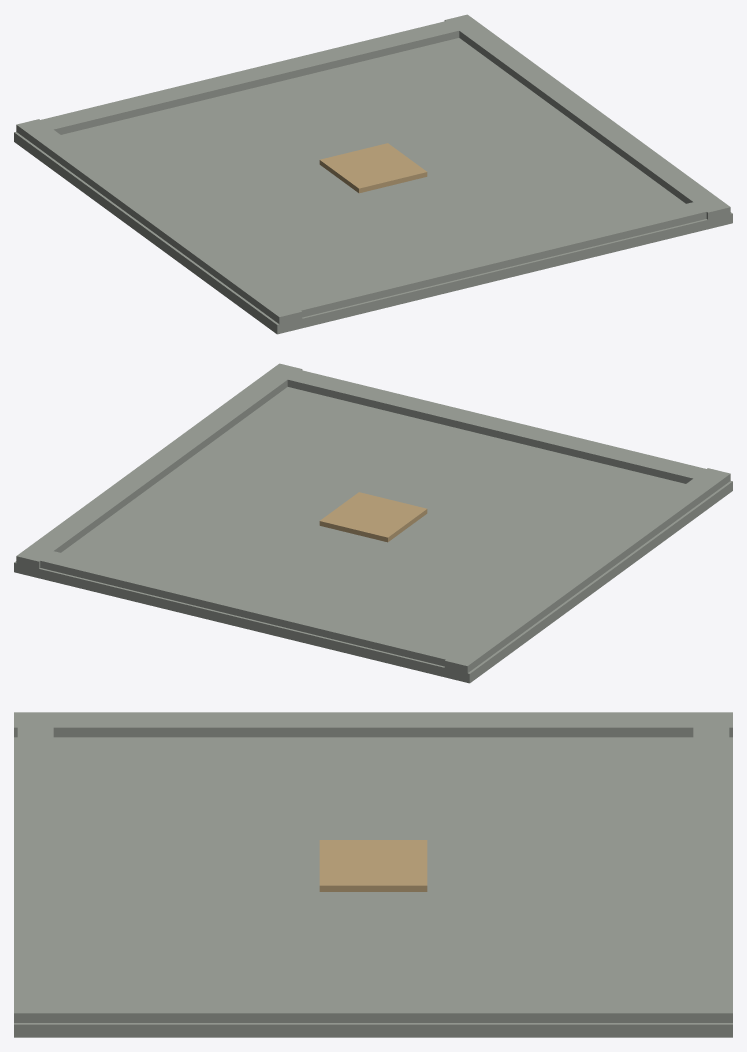
Rendered from lot.gltf.
3 renders of one model, top to bottom at view 1: azimuth 30°, elevation 25°; view 2: azimuth 150°, elevation 25°; view 3: azimuth 270°, elevation 25°, orthographic. The views are drawn at different scales.
Parts seen in each view (by area): view 1: lot; view 2: lot; view 3: lot.
Part boxes in pixels (x1=…): lot: x1=14, y1=14, x2=732, y2=334; lot: x1=14, y1=363, x2=732, y2=683; lot: x1=14, y1=712, x2=732, y2=1037.
Size of the model in its own units: 10 by 0.35 by 10.
Materials: 1 (1 with a texture image).
